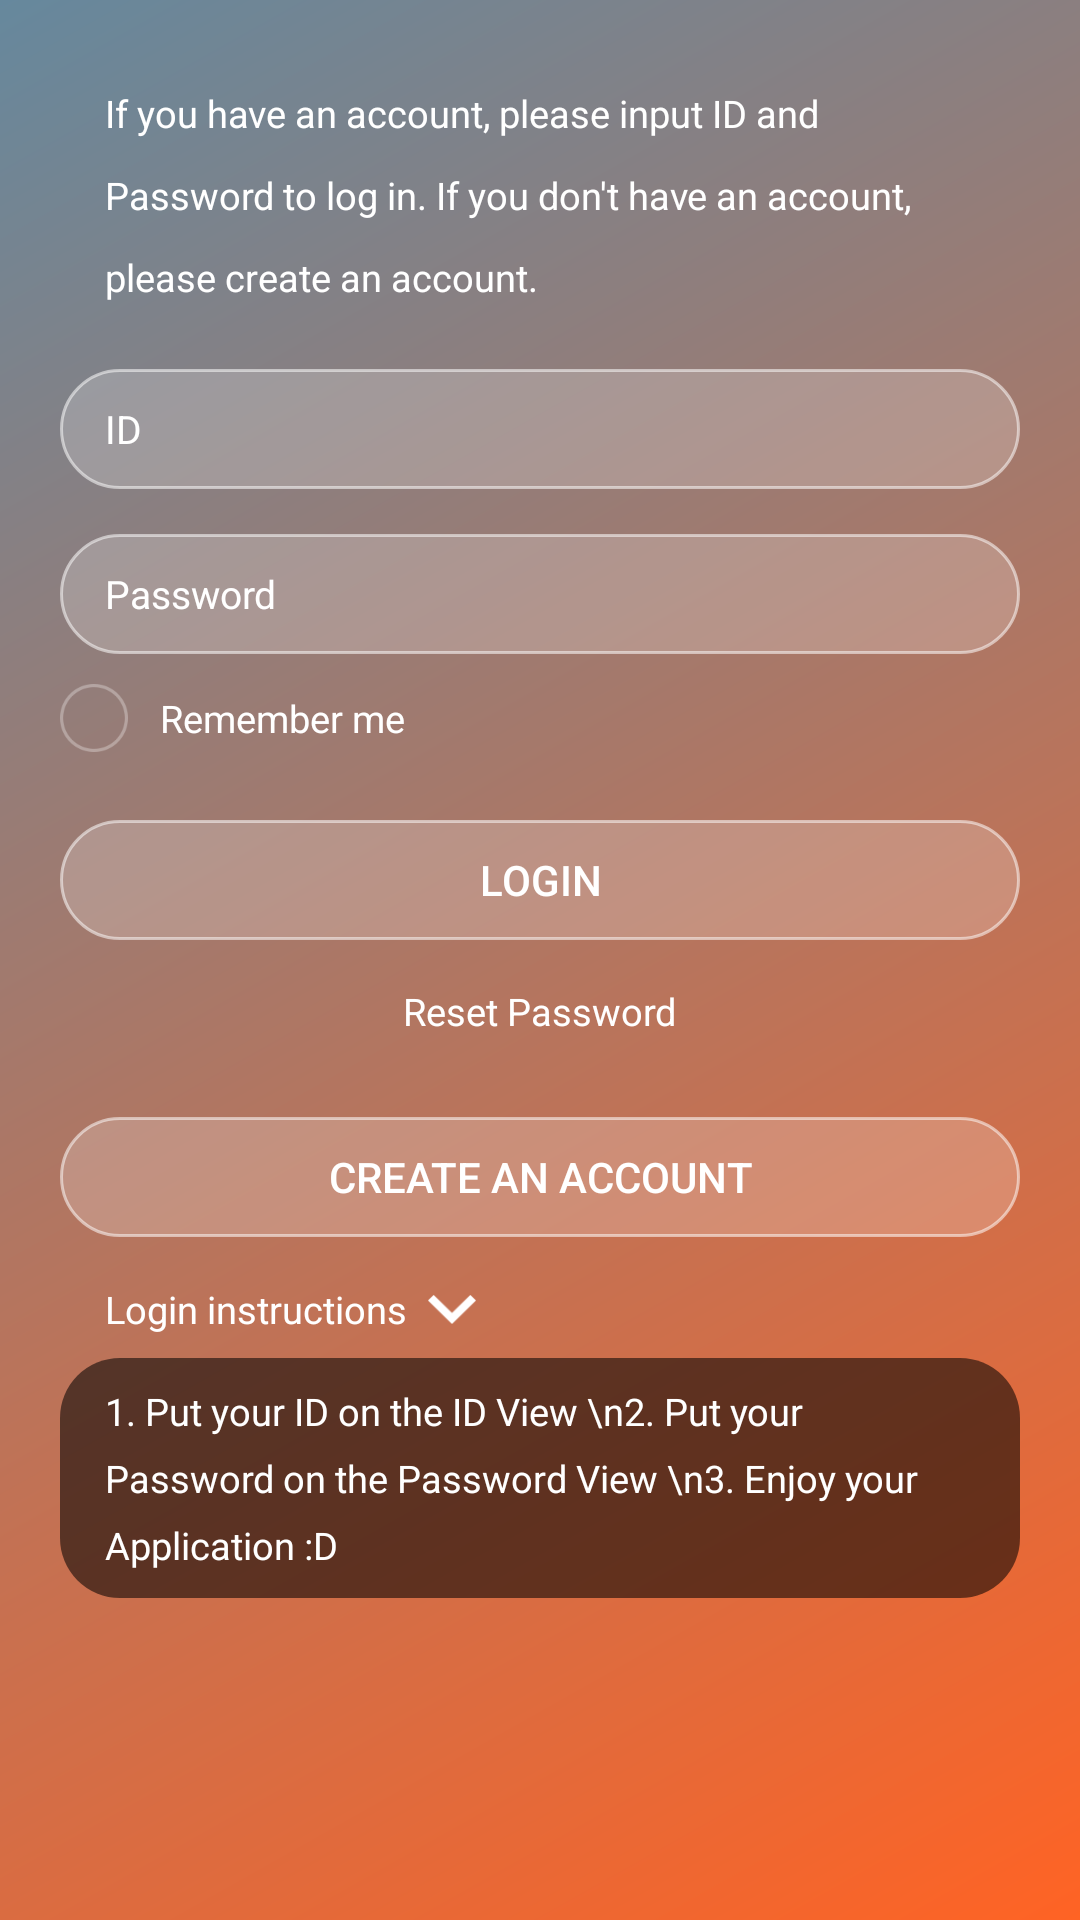

Icons on this 1080 x 1920 Android screen, each with its box as {"x1": x1, "y1": y1, "x2": x2, "y2": y2}:
arrow down: {"x1": 428, "y1": 1295, "x2": 476, "y2": 1324}
